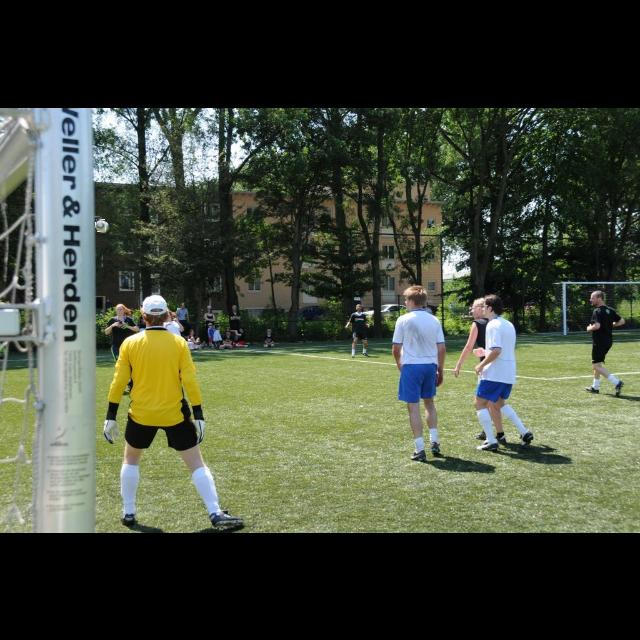Football: (96, 220, 106, 232)
